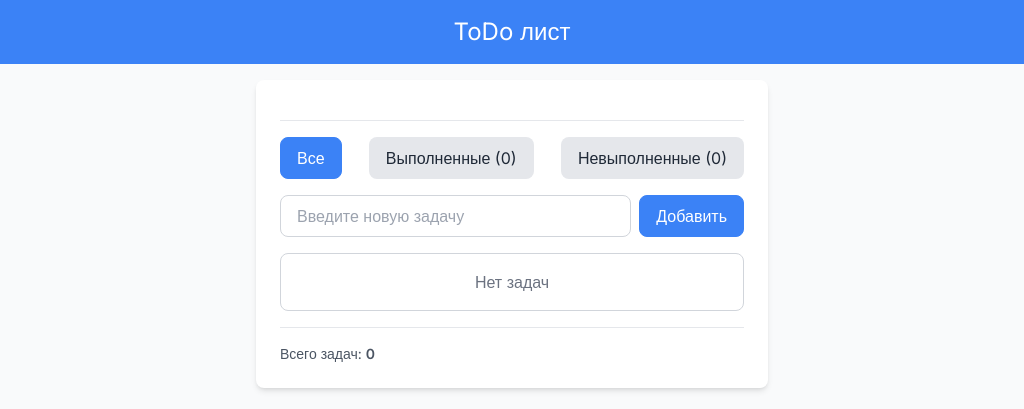
Scenario: TodoApp component › добавляет и отображает задачу
This screenshot has width=1024, height=409.
Type "New task" into the field with placeholder "Введите новую задачу" at (456, 216), box [280,195,631,237]
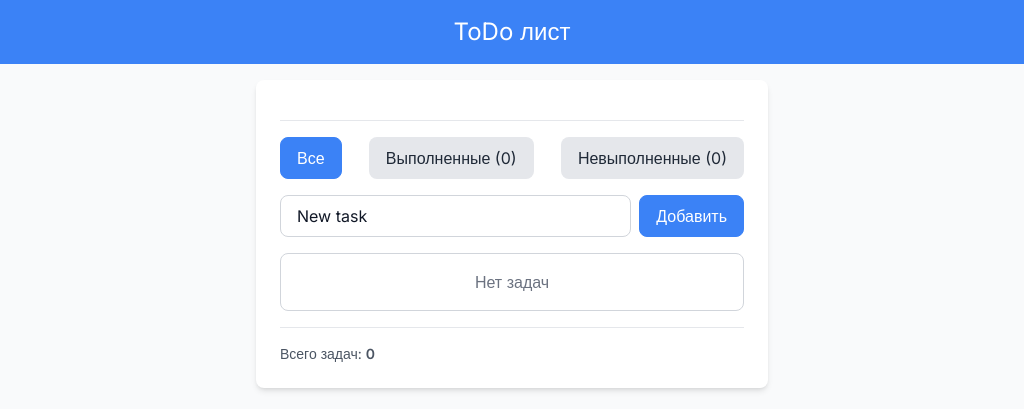
Click the button "Добавить" at (692, 216), box [639,195,744,237]
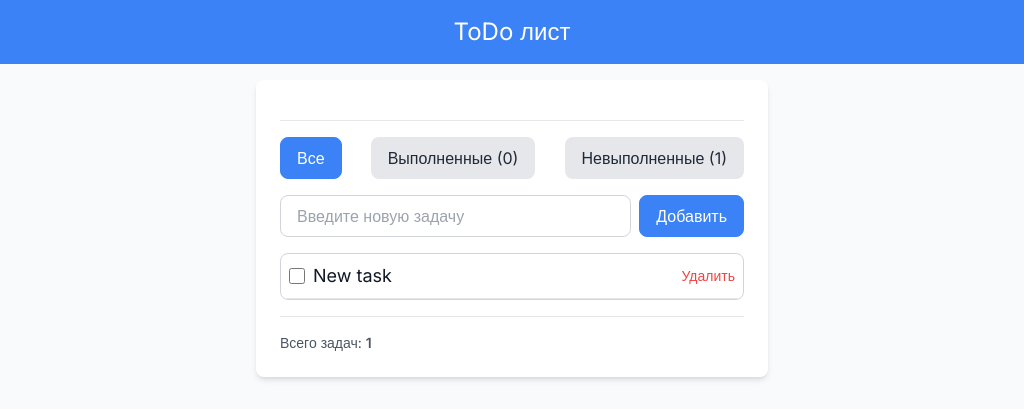
Now the text "New task" is shown, box [313,262,392,290]
